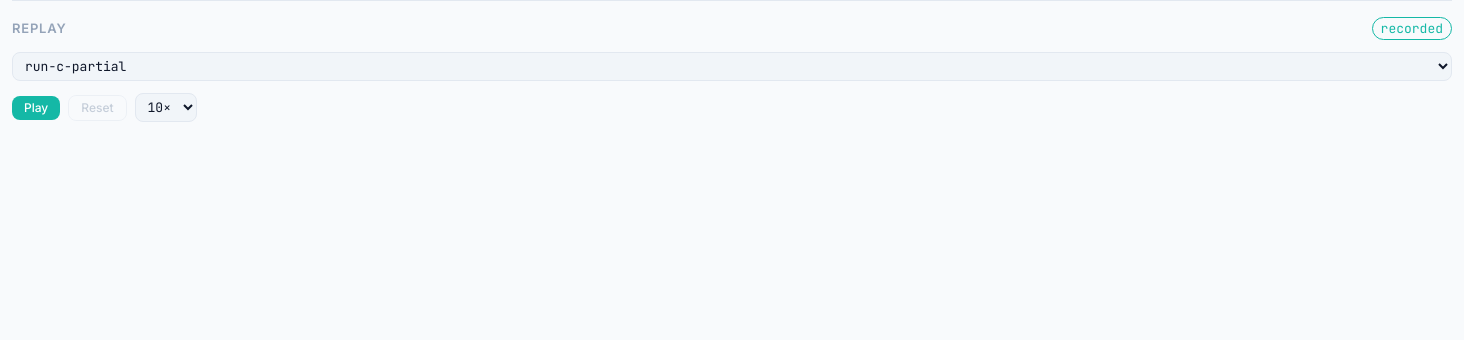
Test: ReplayPanel scrubber › seek rebuilds the replay store to events 0..index
Select "run-c-complete" in the dropdown named "Recording" at point(732, 67), box [12, 52, 1452, 81]
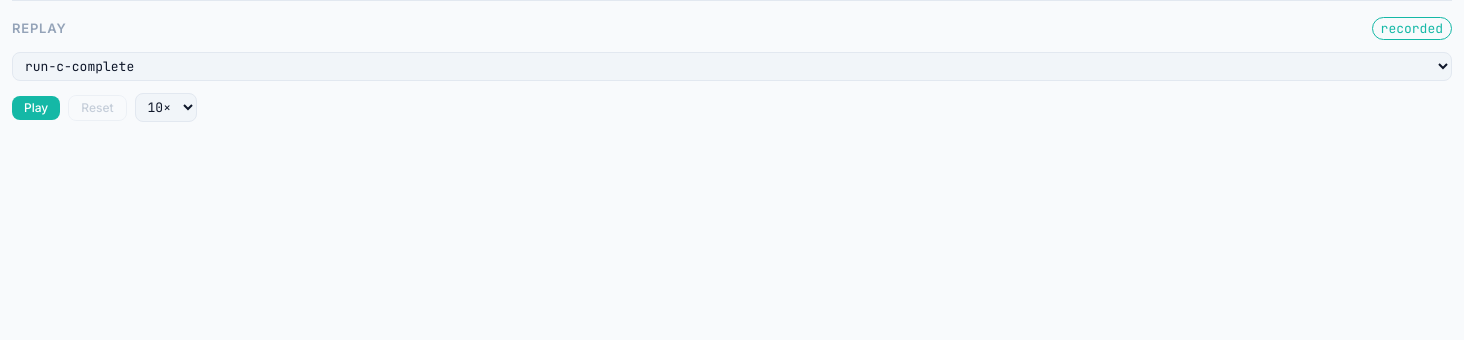
Click the button "Play".
click(36, 108)  # box [12, 96, 60, 120]
Wait 1000 ms
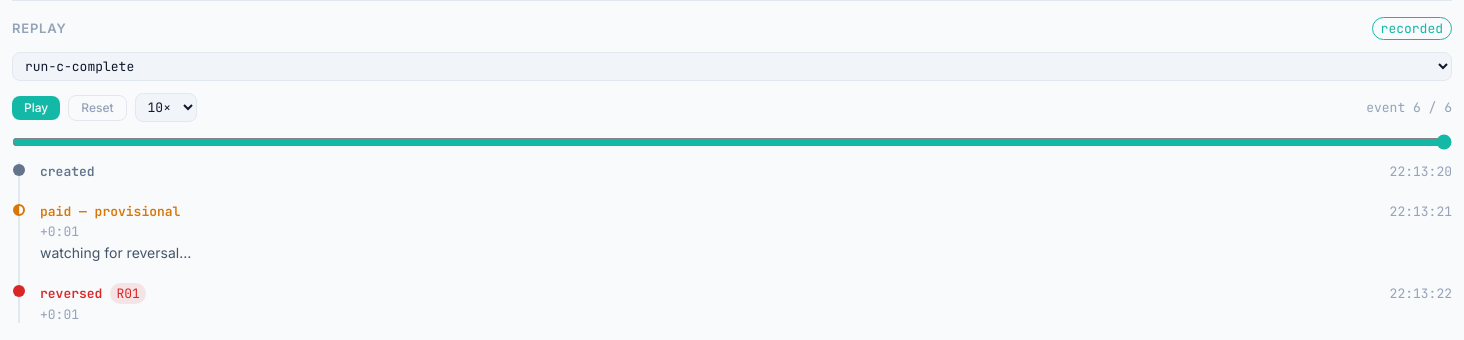
Check: the text "event 6 / 6" is shown, box [1366, 99, 1452, 116]
Set the slider named "Seek" to "3" at point(732, 142), box [12, 134, 1452, 150]
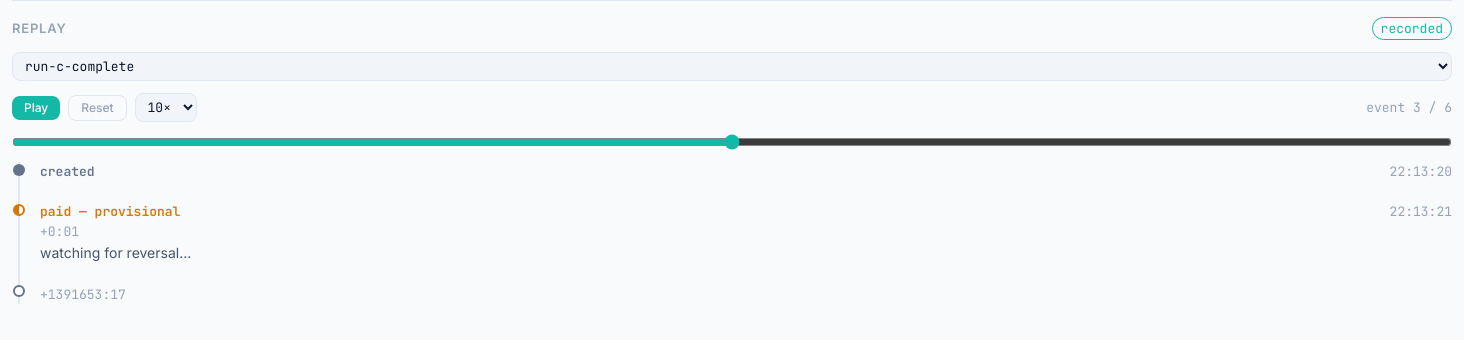
Check: the text "paid — provisional" is shown, box [40, 202, 180, 221]
Check: the text "event 3 / 6" is shown, box [1366, 99, 1452, 116]
Check: the text "reversed" is gone
Set the slider named "Seek" to "2" at point(495, 142), box [12, 134, 1452, 150]
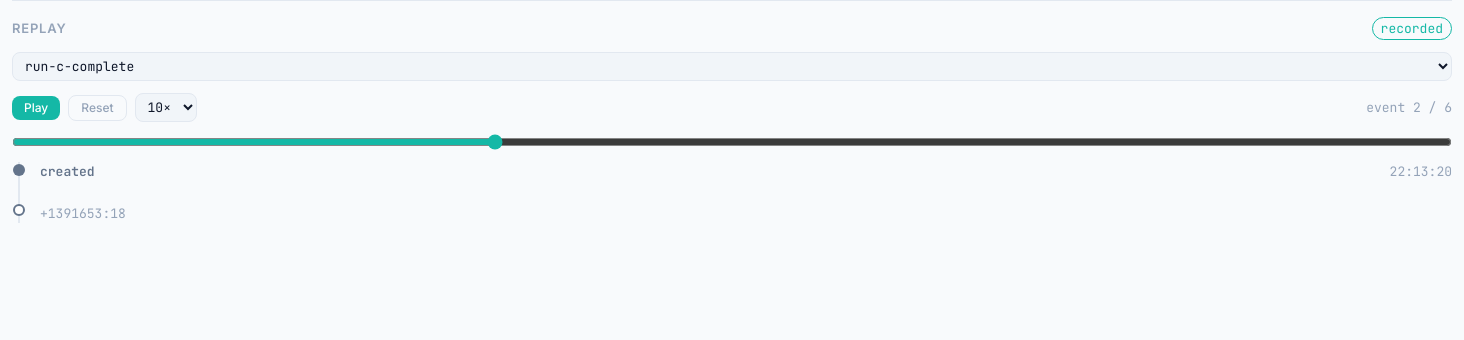
Check: the text "event 2 / 6" is shown, box [1366, 99, 1452, 116]
Check: the text "paid — provisional" is gone
